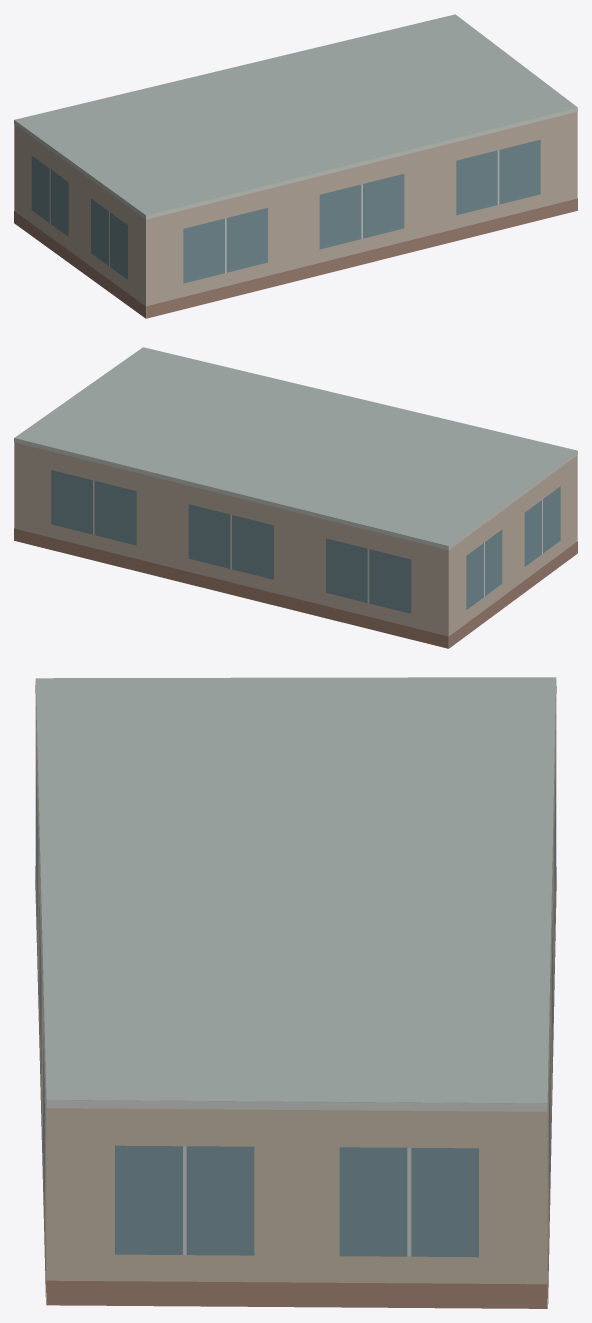
File: survey-upis-32637942.glb
The picture shows the model from 3 angles, top to bottom: view 1: azimuth 30°, elevation 25°; view 2: azimuth 150°, elevation 25°; view 3: azimuth 270°, elevation 25°; orthographic projection. The views are drawn at different scales.
Parts seen in each view (by area): view 1: survey-upis-32637942.tmp; view 2: survey-upis-32637942.tmp; view 3: survey-upis-32637942.tmp.
Part boxes in pixels (x1,y1,x2,y2): survey-upis-32637942.tmp: (14,14,577,318); survey-upis-32637942.tmp: (14,347,577,648); survey-upis-32637942.tmp: (35,677,556,1308).
Bounding box in the file's own units: 13.58 × 3.05 × 7.02.
